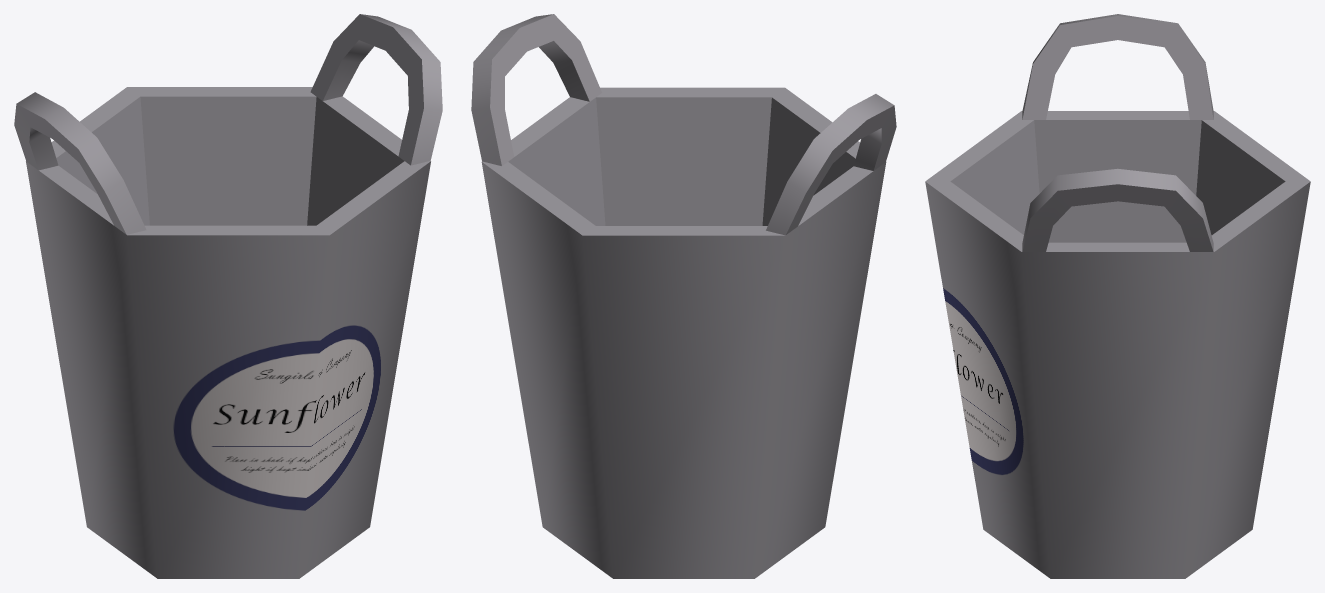
Rendered from Sunflower Bucket.fbx.
3 views of the same model, side by side, from view 1: azimuth 30°, elevation 25°; view 2: azimuth 150°, elevation 25°; view 3: azimuth 270°, elevation 25° (orthographic). The views are drawn at different scales.
Visible parts, largest first — view 1: Flower Bucket; view 2: Flower Bucket; view 3: Flower Bucket.
Part boxes in pixels (left/top/right/bottom): Flower Bucket: left=14, top=14, right=442, bottom=578; Flower Bucket: left=471, top=14, right=896, bottom=578; Flower Bucket: left=925, top=14, right=1310, bottom=578.
Bounding box in the file's own units: 0.1523 × 0.1824 × 0.1458.
